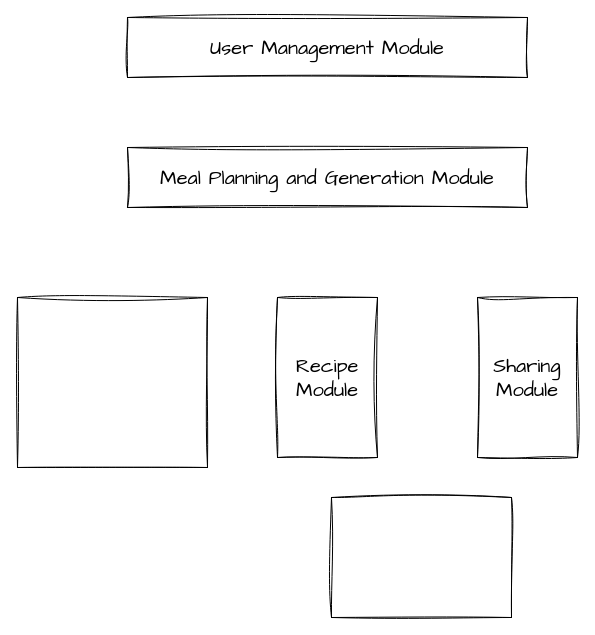
This 595x635 diagram has some shape labels left out. The shapes that lost their labels are listed below. From the top down, each one's box as (x1, y1, x2, y2) in pixels, then its label:
(16, 296, 208, 468): Grocery Lists and Product Recommendations Module
(330, 496, 512, 618): Delivery and Payment Module
